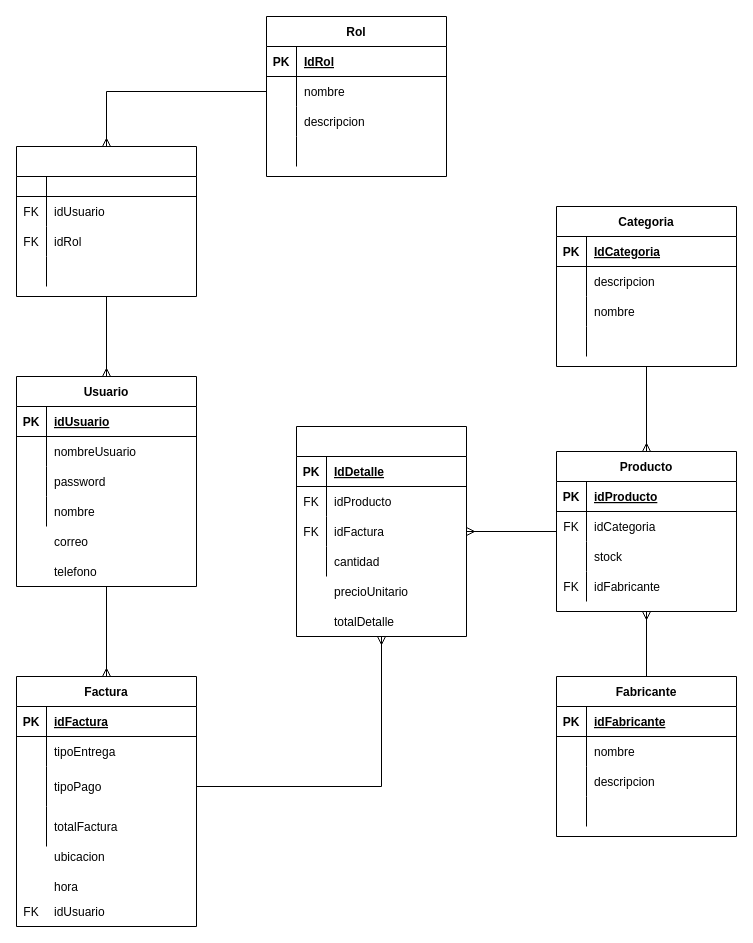
This 753x943 diagram has some shape labels left out. The box of each missing label's shape, as (x1, y1, x2, y2) in pixels:
DetalleFactura: (296, 426, 466, 636)
UsuarioRol: (16, 146, 196, 296)
